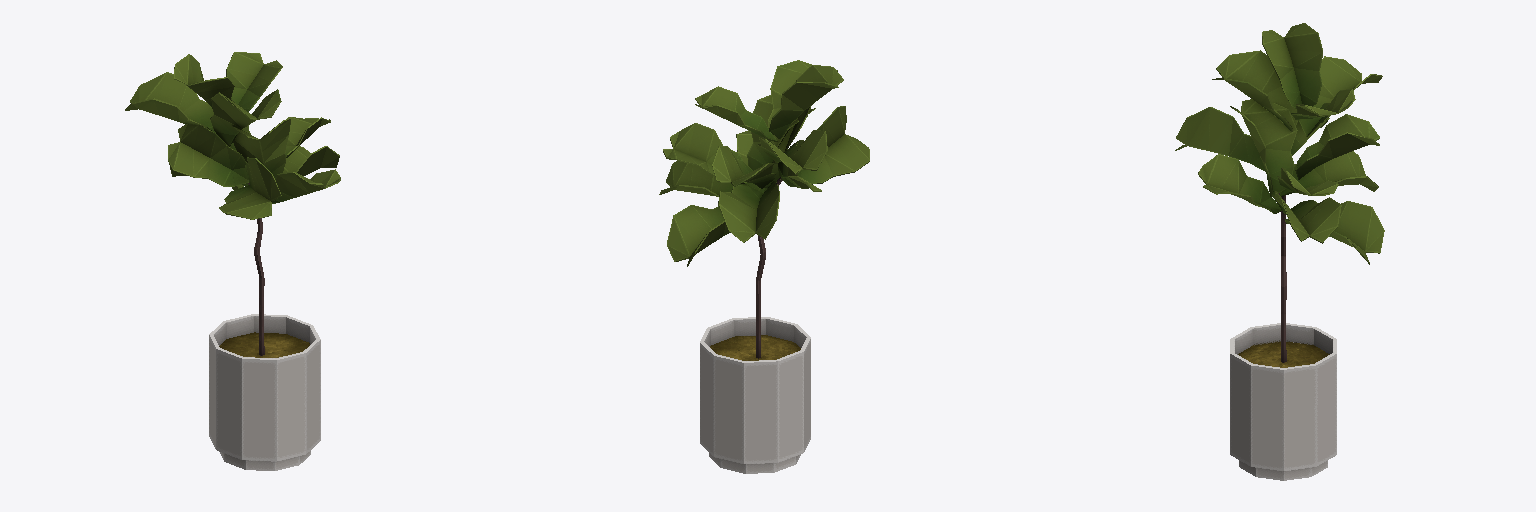
3 renders of one model, left to right at view 1: azimuth 30°, elevation 25°; view 2: azimuth 150°, elevation 25°; view 3: azimuth 270°, elevation 25°, orthographic.
Visible parts, largest first — view 1: FiddleleafFigPottedPlant_mesh; view 2: FiddleleafFigPottedPlant_mesh; view 3: FiddleleafFigPottedPlant_mesh.
Part boxes in pixels (x1,y1,x2,y2): FiddleleafFigPottedPlant_mesh: (125, 52, 340, 470); FiddleleafFigPottedPlant_mesh: (659, 60, 869, 473); FiddleleafFigPottedPlant_mesh: (1175, 23, 1384, 480).
Bounding box in the file's own units: 4.3 × 8.95 × 4.25.
Materials: 1 (1 with a texture image).